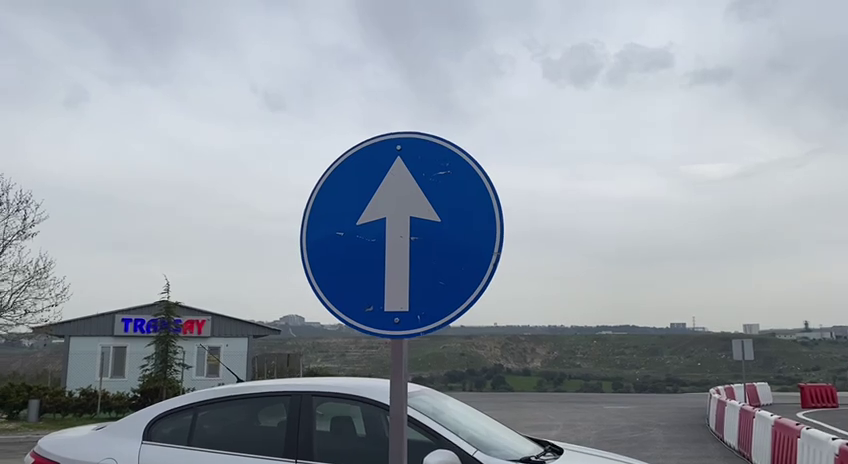forward: (295, 126, 512, 343)
